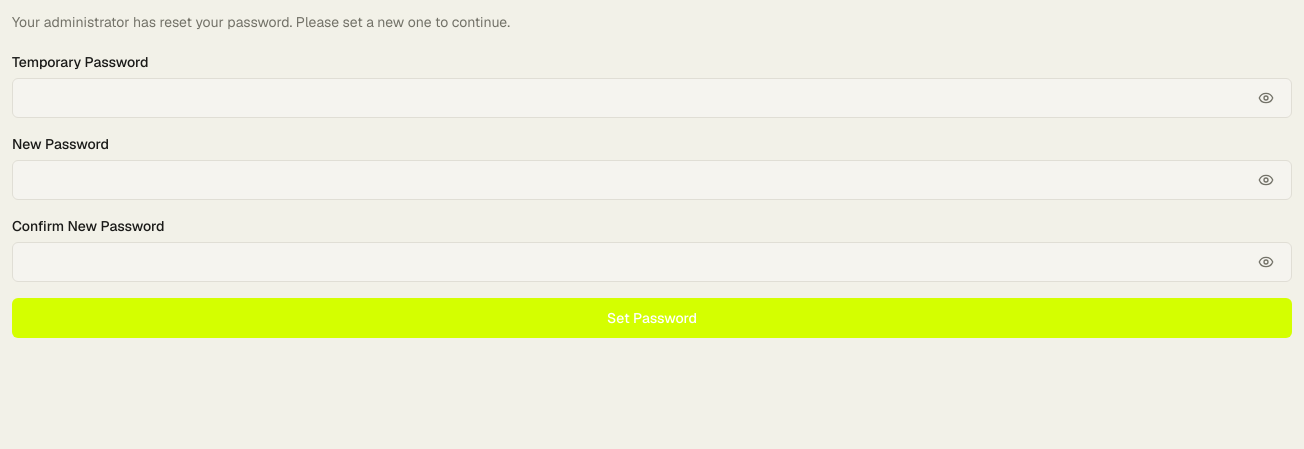
Test: MustChangePasswordForm › renders offline banner on TypeError
Type "OldTemp1!" into the password field labelled "Temporary Password" at (652, 98), box [12,78,1292,118]
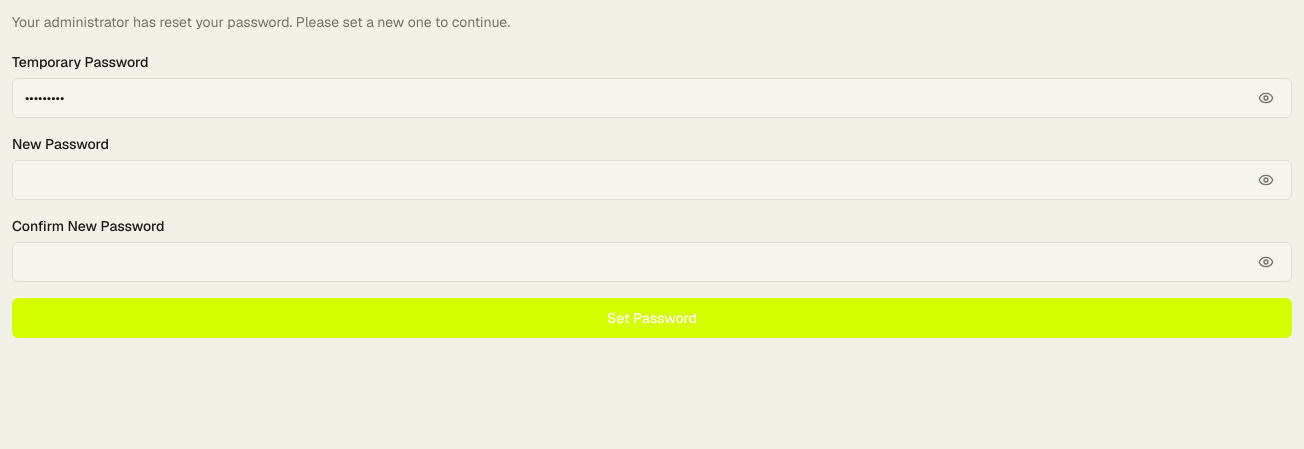
Type "Abcdefg1!" into the password field labelled "New Password" at (652, 180), box [12,160,1292,200]
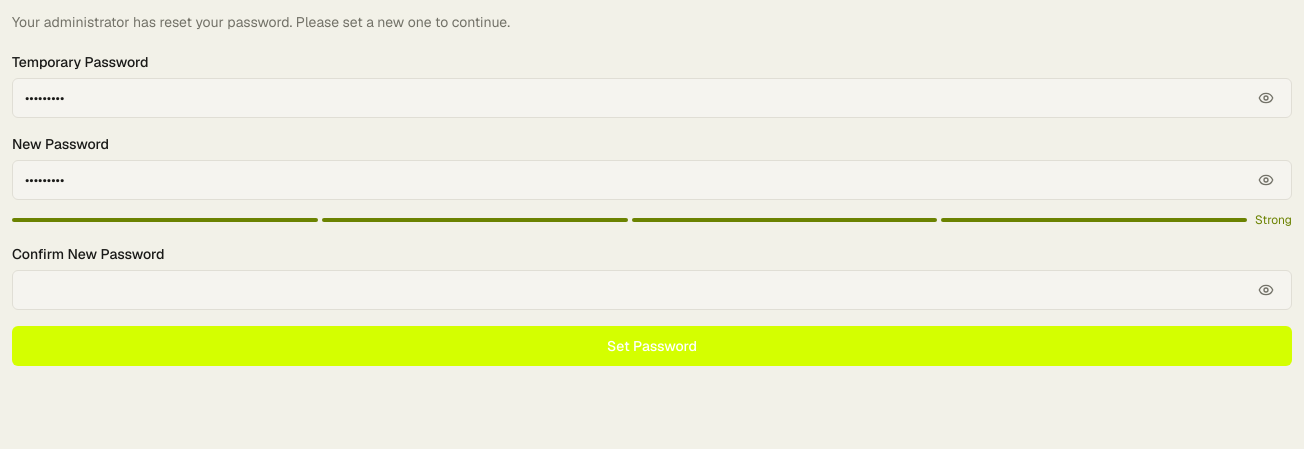
Type "Abcdefg1!" into the password field labelled "Confirm New Password" at (652, 290), box [12,270,1292,310]
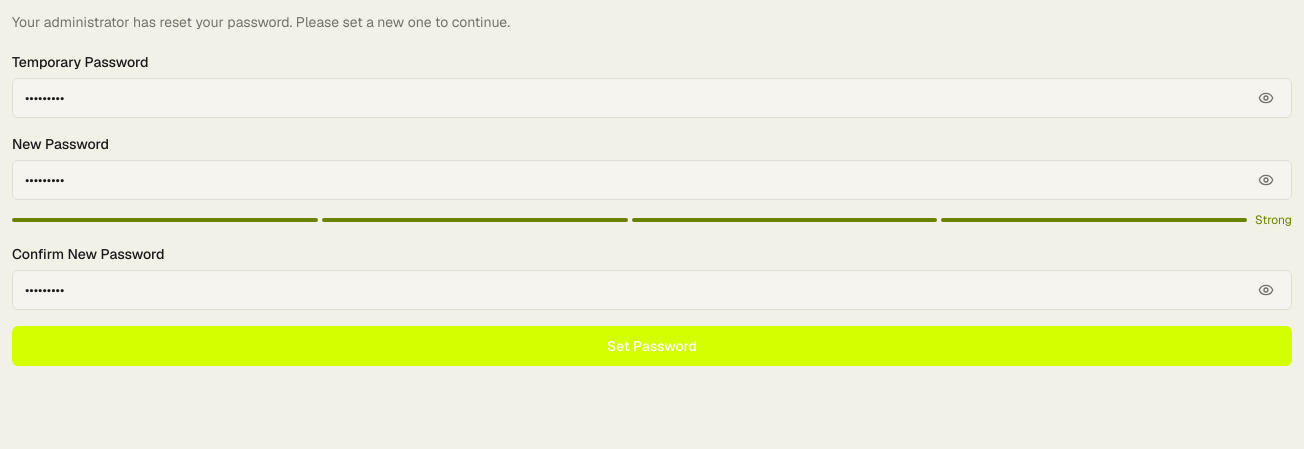
Click the button "Set Password" at (652, 346), box [12,326,1292,366]
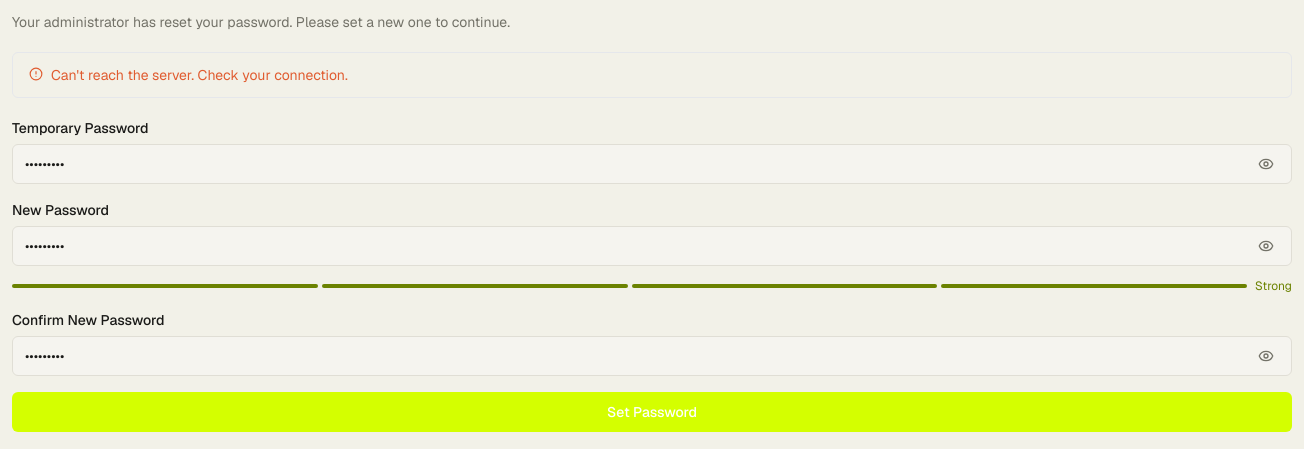
expect the message shows "Can't reach the server": met, box [51,66,348,84]
